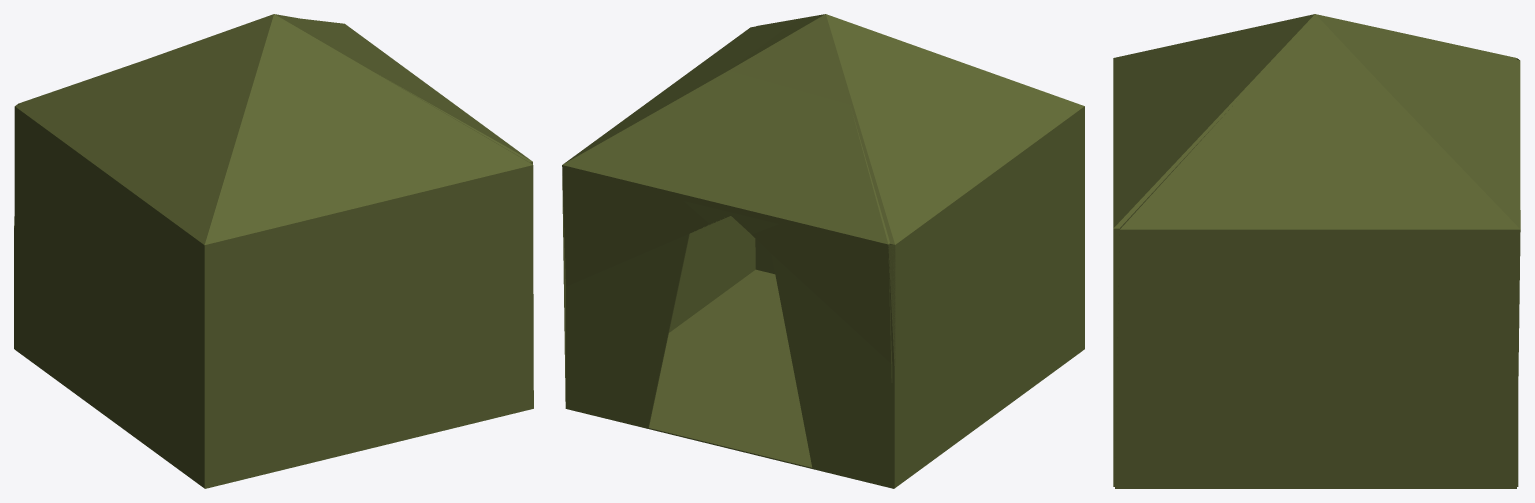
File: camp_tent.glb
The picture shows the model from 3 angles, left to right: view 1: azimuth 30°, elevation 25°; view 2: azimuth 150°, elevation 25°; view 3: azimuth 270°, elevation 25°; orthographic projection. The views are drawn at different scales.
Visible parts, largest first — view 1: Cone.001; view 2: Cone.001; view 3: Cone.001.
Part boxes in pixels (bbox=[...]): Cone.001: bbox=[14, 14, 533, 488]; Cone.001: bbox=[562, 14, 1084, 488]; Cone.001: bbox=[1113, 14, 1520, 488].
Size of what is drawn, in the model's own units: 1.43 by 1.5 by 1.43.
